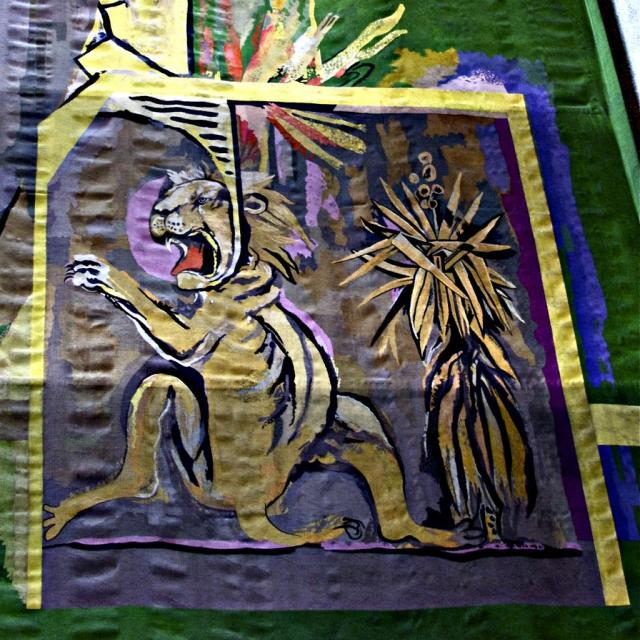Tiger: (41, 158, 488, 549)
